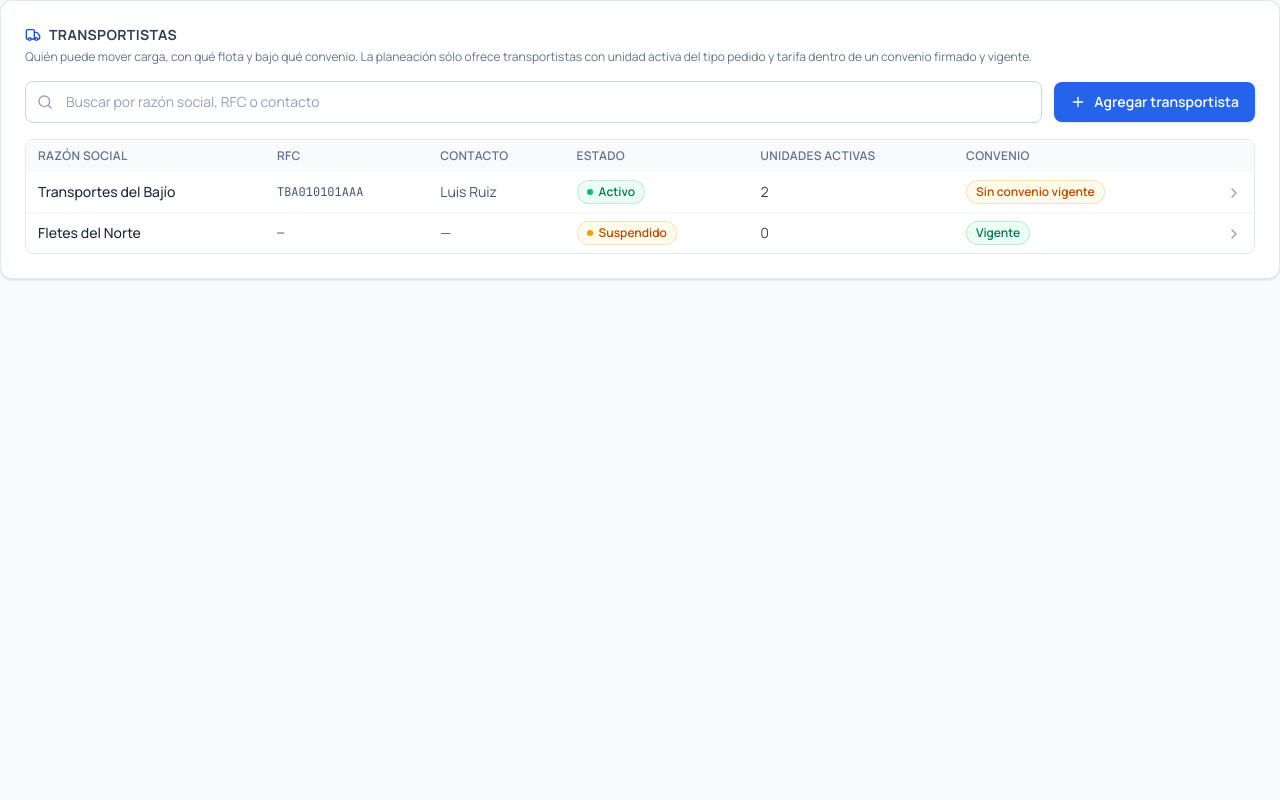
it: TransportistasTab › shows the renewal chain in both directions
The image size is (1280, 800).
What coordinates should you click on to do the following:
click the text "Transportes del Bajío"
I would click on:
 (146, 192)
Its box is left=26, top=172, right=265, bottom=212.
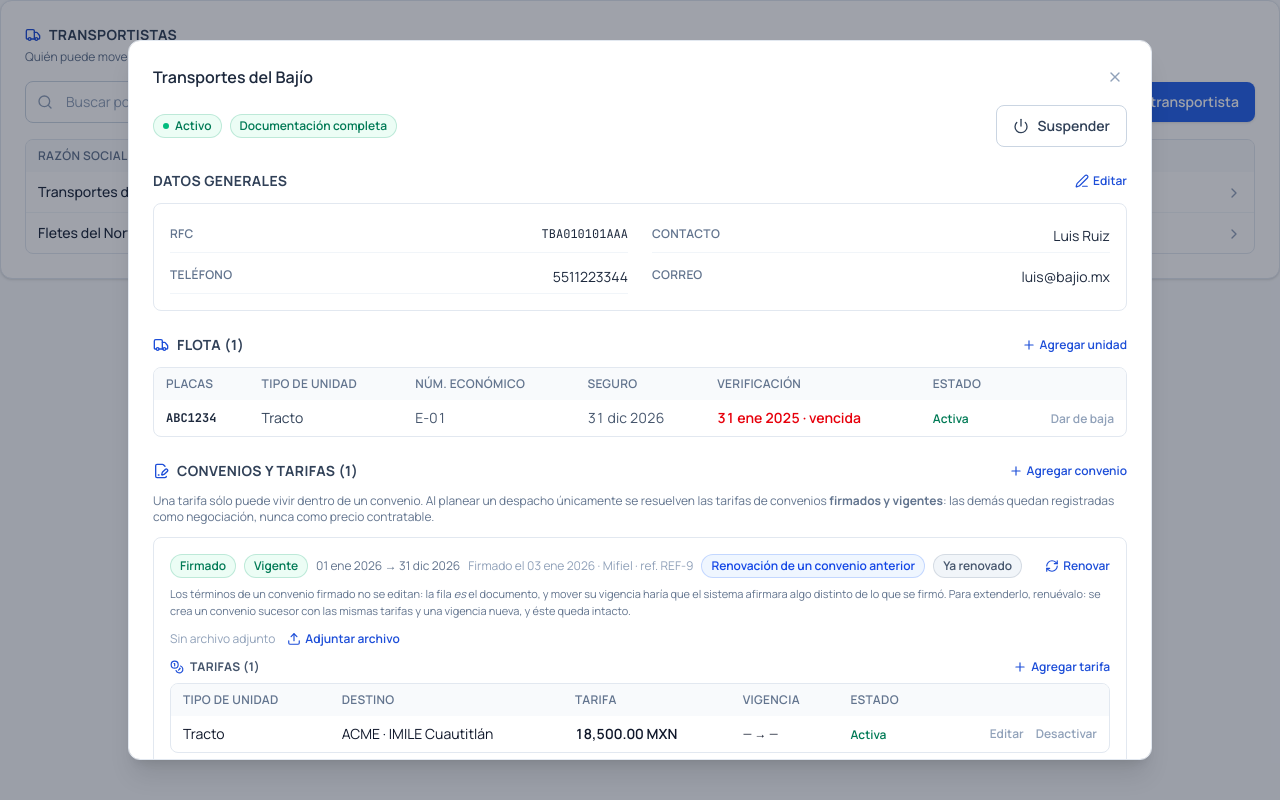
Result: the text "Renovación de un convenio anterior" is shown at left=702, top=554, right=925, bottom=578
Result: the text "Ya renovado" is shown at left=933, top=554, right=1022, bottom=578
